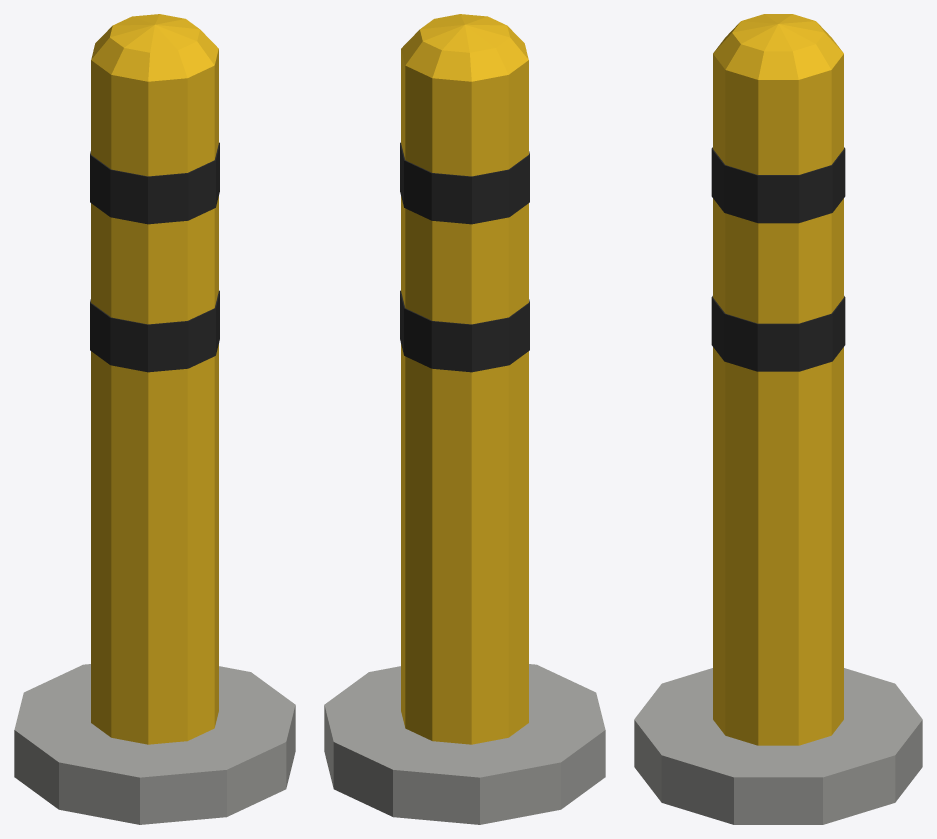
Rendered from Crash_Bollard_Yellow.glb.
3 renders of one model, left to right at view 1: azimuth 30°, elevation 25°; view 2: azimuth 150°, elevation 25°; view 3: azimuth 270°, elevation 25°, orthographic.
Parts seen in each view (by area): view 1: Crash_Bollard_Yellow; view 2: Crash_Bollard_Yellow; view 3: Crash_Bollard_Yellow.
Part boxes in pixels (x1=…): Crash_Bollard_Yellow: x1=14, y1=14, x2=295, y2=824; Crash_Bollard_Yellow: x1=324, y1=14, x2=605, y2=824; Crash_Bollard_Yellow: x1=634, y1=14, x2=922, y2=824.
Size of the model in its own units: 0.4185 by 1.25 by 0.44.
1 material, 1 textured.
